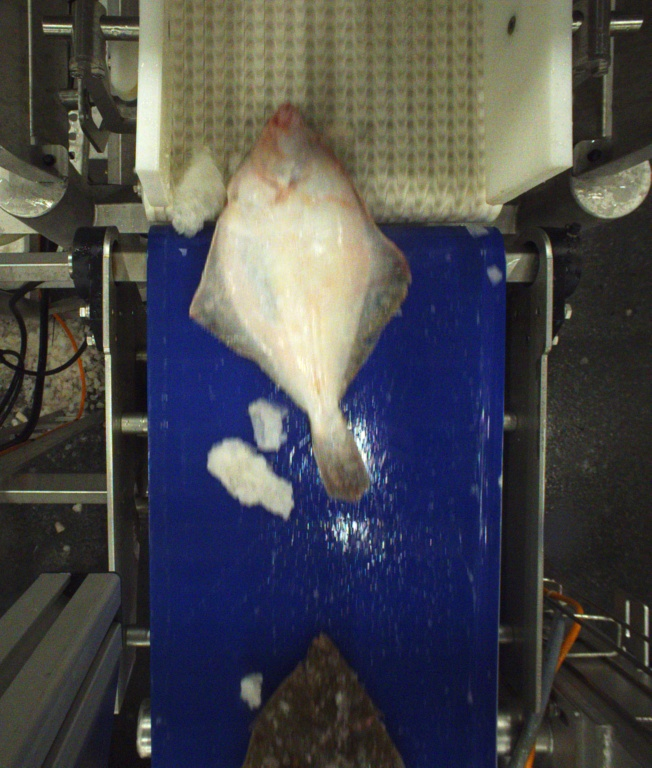PLE: (188, 103, 411, 501)
